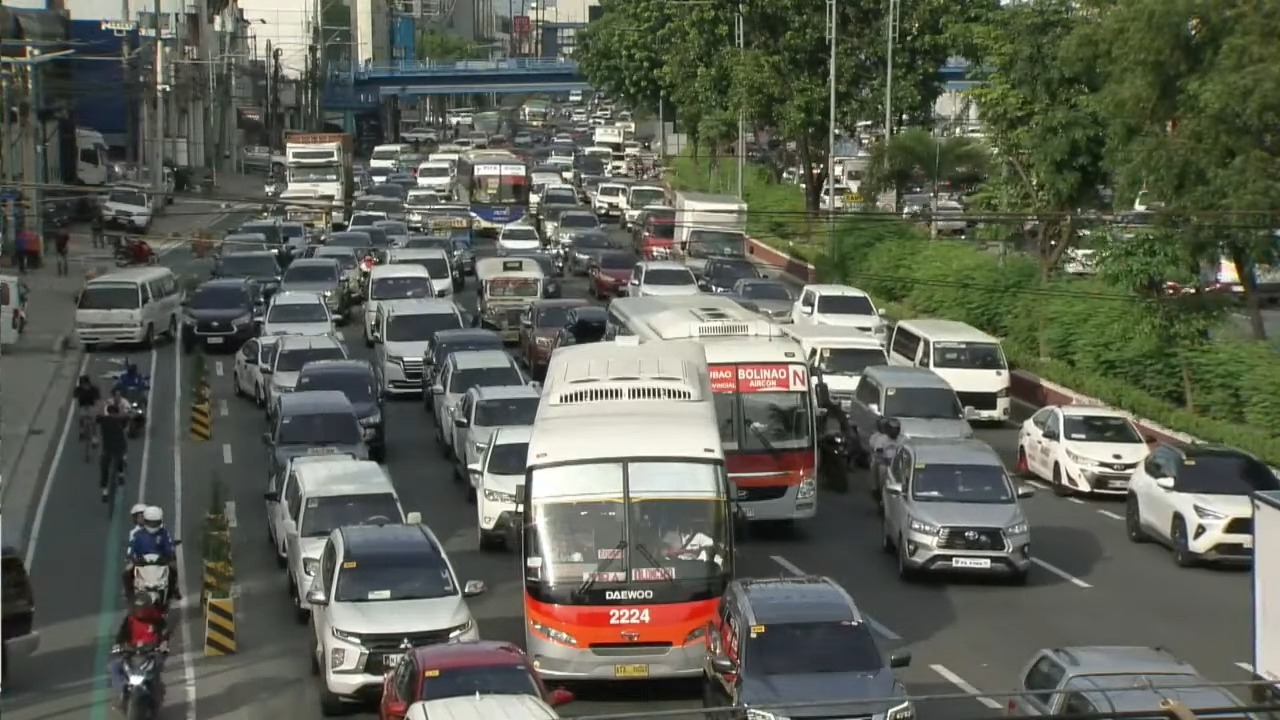bus: (516, 339, 733, 680), (607, 294, 817, 520), (455, 149, 529, 231), (520, 99, 553, 126)
car: (305, 524, 485, 715), (702, 576, 914, 719), (264, 455, 420, 622), (880, 438, 1033, 583), (1126, 443, 1279, 566), (1008, 646, 1245, 716), (379, 640, 572, 719), (1015, 405, 1148, 495), (848, 365, 972, 454), (264, 452, 354, 568), (431, 350, 530, 451), (296, 359, 386, 461), (374, 298, 465, 393), (263, 391, 367, 472), (452, 386, 539, 479), (466, 425, 531, 549), (260, 335, 348, 418), (361, 265, 437, 346), (181, 277, 263, 352), (0, 545, 39, 687), (518, 298, 587, 378), (388, 234, 473, 291), (424, 328, 504, 386), (792, 284, 884, 334), (279, 257, 348, 320), (386, 247, 462, 297), (405, 695, 559, 719), (304, 245, 361, 305), (260, 291, 335, 335), (211, 251, 281, 298), (233, 336, 278, 407), (729, 277, 793, 322), (562, 228, 622, 275), (506, 250, 562, 298), (627, 260, 701, 296), (236, 218, 290, 266), (552, 305, 607, 352), (100, 185, 153, 232), (588, 251, 637, 299), (700, 258, 766, 292), (633, 206, 675, 257), (620, 184, 665, 230), (544, 210, 600, 245), (536, 200, 579, 242), (218, 232, 278, 256), (497, 222, 541, 253), (592, 182, 627, 217), (353, 195, 404, 219), (280, 221, 309, 257), (366, 175, 406, 201), (374, 220, 409, 246), (365, 166, 392, 192), (348, 211, 387, 229), (400, 127, 438, 142), (512, 131, 532, 146)
motorcycle: (119, 645, 163, 719), (131, 553, 169, 610), (818, 432, 853, 491), (869, 446, 895, 512), (122, 386, 147, 438), (113, 238, 157, 266), (551, 245, 566, 275)
truck: (282, 132, 354, 228), (674, 191, 746, 276), (1251, 491, 1279, 704), (593, 125, 625, 151)
